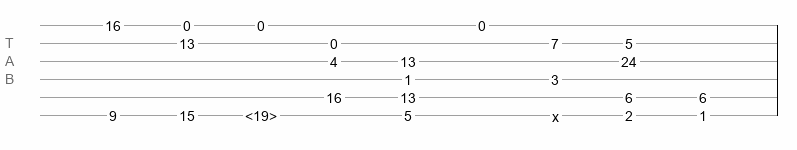0: (183, 18, 191, 28), (257, 18, 265, 28), (330, 36, 338, 46), (478, 18, 486, 28)
1: (404, 72, 412, 82), (699, 108, 707, 118)
13: (179, 36, 195, 46), (400, 90, 416, 100), (400, 54, 416, 64)
15: (179, 108, 195, 118)
16: (105, 18, 121, 28), (326, 90, 342, 100)
2: (625, 108, 633, 118)
24: (621, 54, 637, 64)
3: (551, 72, 559, 82)
4: (330, 54, 338, 64)
5: (404, 108, 412, 118), (625, 36, 633, 46)
6: (625, 90, 633, 100), (699, 90, 707, 100)
7: (551, 36, 559, 46)
9: (109, 108, 117, 118)
harmonic: (245, 108, 277, 118)
x: (552, 109, 559, 117)
